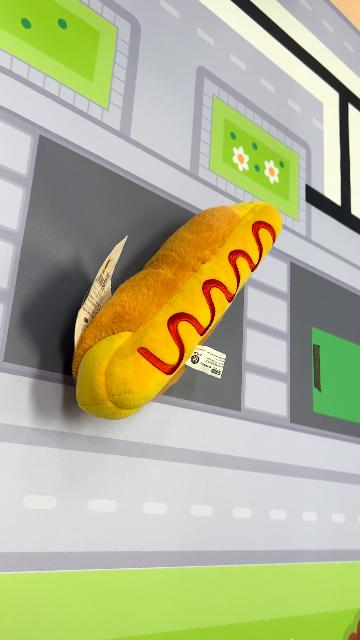hotdog: (72, 200, 284, 422)
